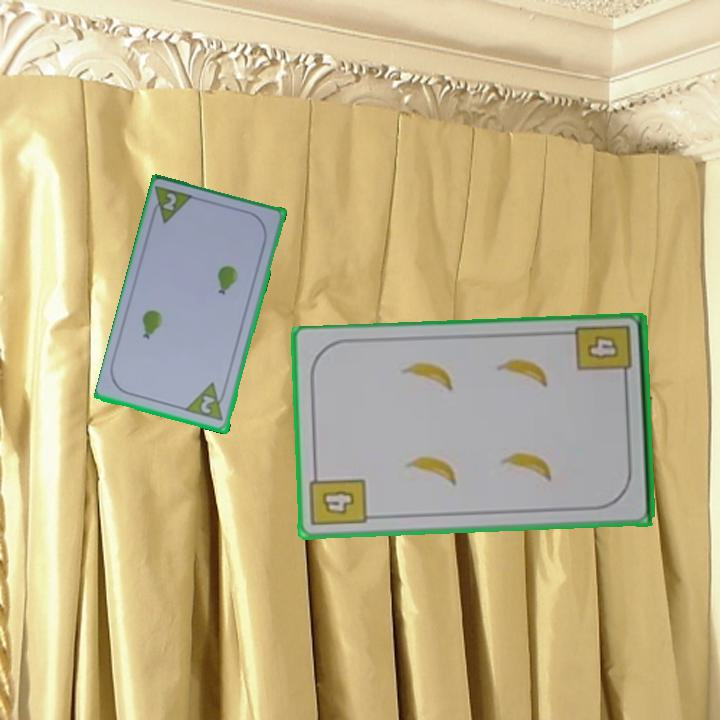2p: (147, 183, 197, 228), (197, 392, 217, 417)
4b: (573, 322, 635, 387), (307, 467, 369, 529)
